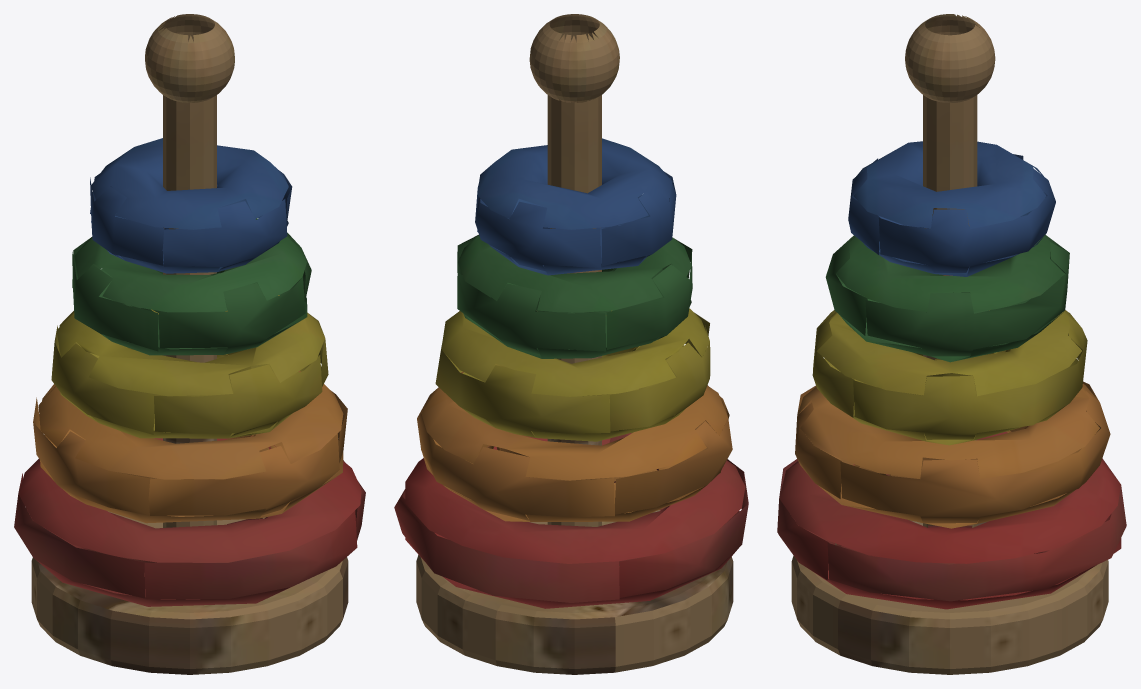
File: TY17_StackingRings.glb
The picture shows the model from 3 angles, left to right: view 1: azimuth 30°, elevation 25°; view 2: azimuth 150°, elevation 25°; view 3: azimuth 270°, elevation 25°; orthographic projection.
Visible parts, largest first — view 1: TY17_StackingRings; view 2: TY17_StackingRings; view 3: TY17_StackingRings.
Part boxes in pixels (left/top/right/bottom): TY17_StackingRings: left=14, top=14, right=365, bottom=674; TY17_StackingRings: left=394, top=14, right=748, bottom=674; TY17_StackingRings: left=777, top=14, right=1126, bottom=674.
Size of the model in its own units: 0.1581 by 0.2966 by 0.1598.
6 materials, 6 textured.
